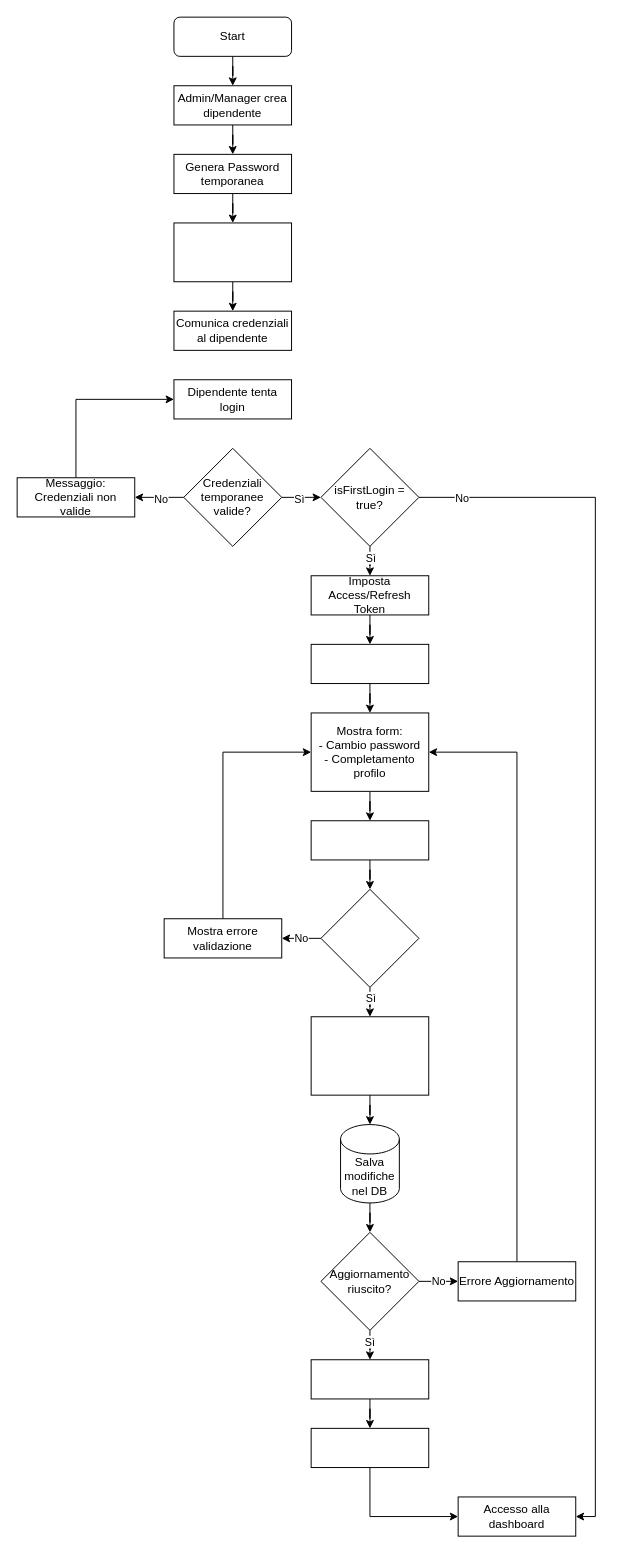
Some shapes in this 620 by 1553 pixel diagram are drawn without their labels. Here are the shapes that lost their labels. From the top down, the box of each, then its label:
(173, 222, 292, 282): Imposta: isFirstLogin: true, temporaryPassword = true
(310, 643, 429, 684): Frontend redirect a /first-login
(310, 820, 429, 860): Utente compila ed invia form
(320, 888, 419, 987): Form/password validi?
(310, 1016, 429, 1095): Aggiorna profilo: - Hash nuova psw - Dati anagrafici - isFirstLogin = false
(310, 1359, 429, 1399): Genera nuovi JWT con profilo aggiornato
(310, 1427, 429, 1468): Imposta nuovi cookie
